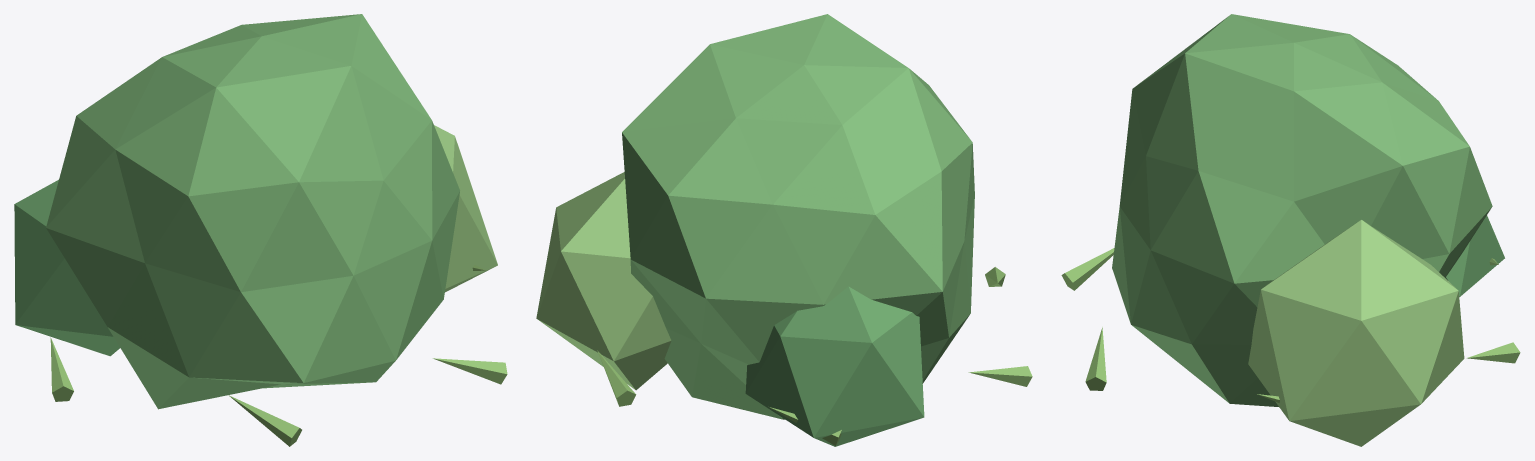
The model's file is 50-Vegetacion_arbusto_redondo.glb.
The picture shows the model from 3 angles, left to right: view 1: azimuth 30°, elevation 25°; view 2: azimuth 150°, elevation 25°; view 3: azimuth 270°, elevation 25°; orthographic projection. The views are drawn at different scales.
Parts seen in each view (by area): view 1: SM_Arbusto_Principal, SM_Arbusto_Lateral_B, SM_Arbusto_Lateral_A, SM_Pasto_04, SM_Pasto_05, SM_Pasto_03; view 2: SM_Arbusto_Principal, SM_Arbusto_Lateral_B, SM_Arbusto_Lateral_A, SM_Pasto_03, SM_Pasto_01; view 3: SM_Arbusto_Principal, SM_Arbusto_Lateral_A, SM_Arbusto_Lateral_B, SM_Pasto_04, SM_Pasto_05, SM_Pasto_01.
Part boxes in pixels (x1,y1,x2,y2): SM_Arbusto_Principal: [46, 14, 459, 409]; SM_Arbusto_Lateral_B: [14, 179, 119, 356]; SM_Arbusto_Lateral_A: [434, 125, 497, 292]; SM_Pasto_04: [228, 395, 301, 446]; SM_Pasto_05: [433, 358, 507, 384]; SM_Pasto_03: [50, 337, 73, 401]; SM_Arbusto_Principal: [622, 14, 974, 419]; SM_Arbusto_Lateral_B: [745, 286, 924, 446]; SM_Arbusto_Lateral_A: [536, 172, 671, 390]; SM_Pasto_03: [968, 366, 1032, 386]; SM_Pasto_01: [597, 350, 636, 406]; SM_Arbusto_Principal: [1112, 14, 1492, 406]; SM_Arbusto_Lateral_A: [1248, 219, 1464, 446]; SM_Arbusto_Lateral_B: [1445, 215, 1504, 296]; SM_Pasto_04: [1061, 248, 1114, 290]; SM_Pasto_05: [1085, 327, 1106, 390]; SM_Pasto_01: [1466, 342, 1520, 363].
Bounding box in the file's own units: 2.25 × 1.68 × 2.04.
